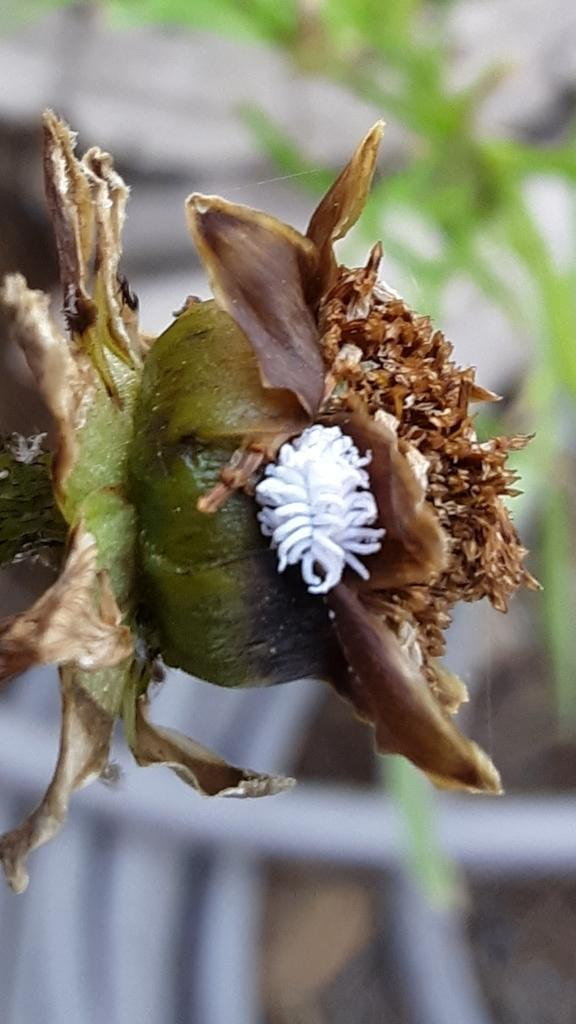ladybug: (251, 421, 391, 599)
